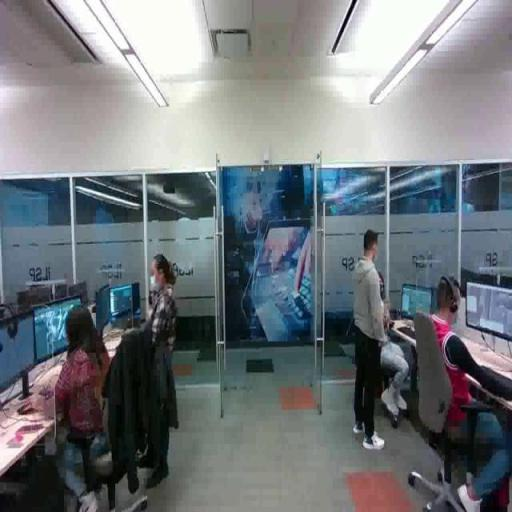person: (433, 278, 512, 512), (56, 307, 111, 512), (143, 255, 179, 489), (355, 231, 388, 451), (380, 273, 411, 417)
